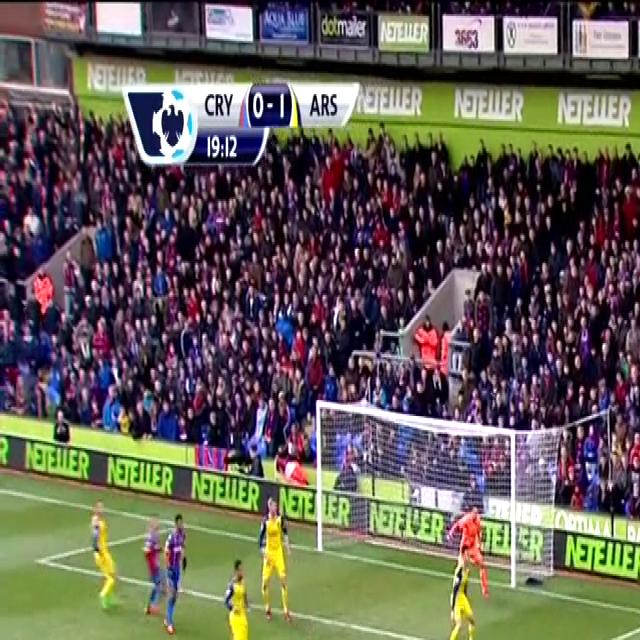goalkeeper: (446, 500, 494, 606)
soccer-player: (250, 491, 300, 627), (78, 498, 124, 612), (216, 551, 266, 640), (162, 504, 192, 639), (438, 569, 483, 640)
